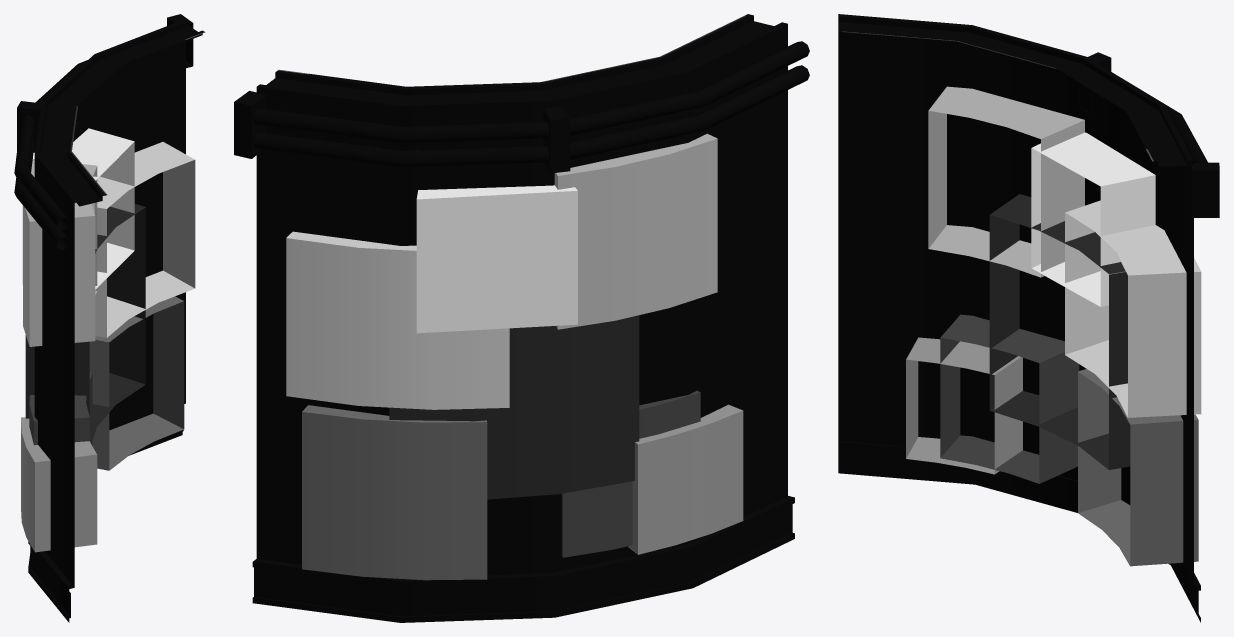
File: OutwardWall90D.fbx
3 views of the same model, side by side, from view 1: azimuth 30°, elevation 25°; view 2: azimuth 150°, elevation 25°; view 3: azimuth 270°, elevation 25° (orthographic). The views are drawn at different scales.
Parts seen in each view (by area): view 1: FullCornerInwardPipes1; view 2: FullCornerInwardPipes1; view 3: FullCornerInwardPipes1.
Part boxes in pixels (<box>): FullCornerInwardPipes1: <box>14,14,205,622</box>; FullCornerInwardPipes1: <box>234,14,809,622</box>; FullCornerInwardPipes1: <box>838,14,1219,622</box>.
Bounding box in the file's own units: 291 × 392 × 293.
